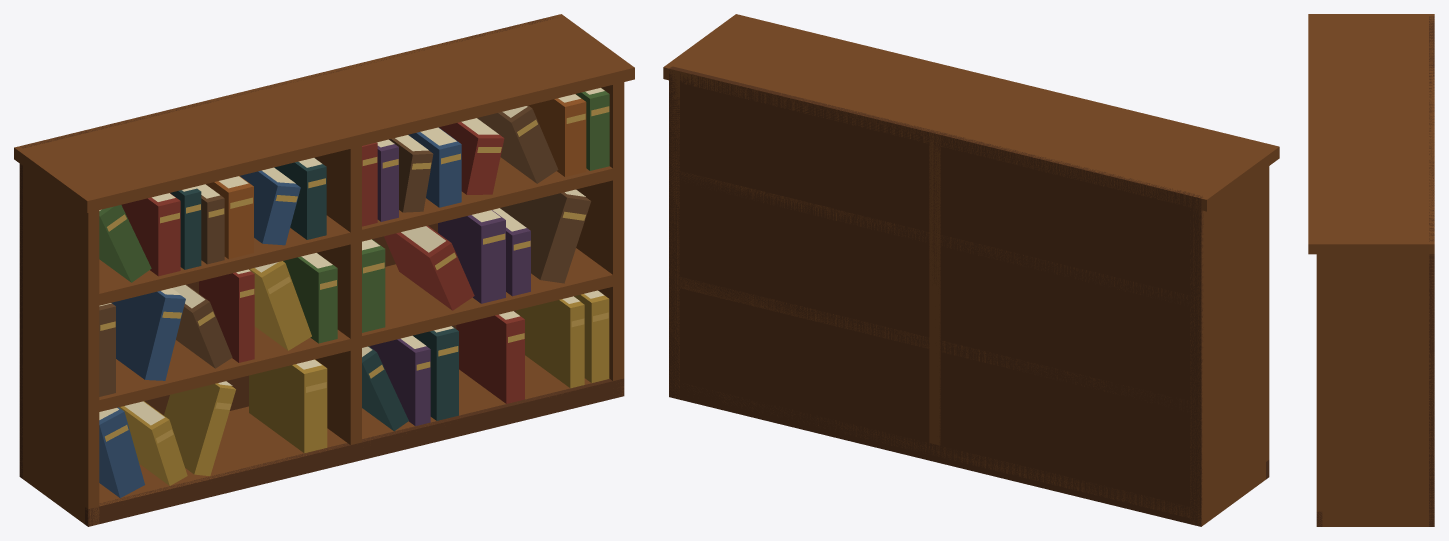
File: buecherregal_c.glb
3 views of the same model, side by side, from view 1: azimuth 30°, elevation 25°; view 2: azimuth 150°, elevation 25°; view 3: azimuth 270°, elevation 25° (orthographic). The views are drawn at different scales.
Visible parts, largest first — view 1: buecherregal_c; view 2: buecherregal_c; view 3: buecherregal_c.
Boxes of the visible parts, left/top/right/bottom form: buecherregal_c: left=14, top=14, right=634, bottom=526; buecherregal_c: left=663, top=14, right=1279, bottom=526; buecherregal_c: left=1308, top=14, right=1434, bottom=526.
Bounding box in the file's own units: 1.94 × 1.12 × 0.45.
